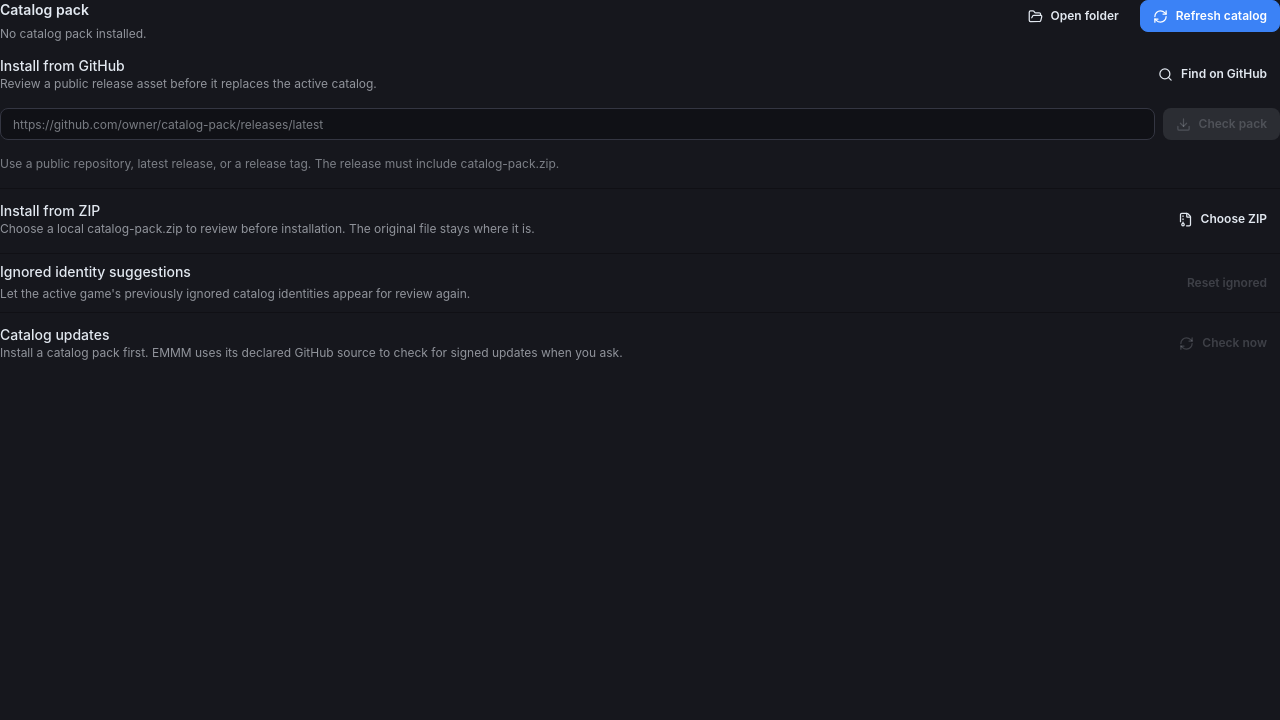
Test: CatalogTab › releases the reviewed staging token when settings unmounts
The width and height of the screenshot is (1280, 720).
Step 1. Click the button "Choose ZIP" → point(1222, 219), box [1165, 203, 1279, 235]
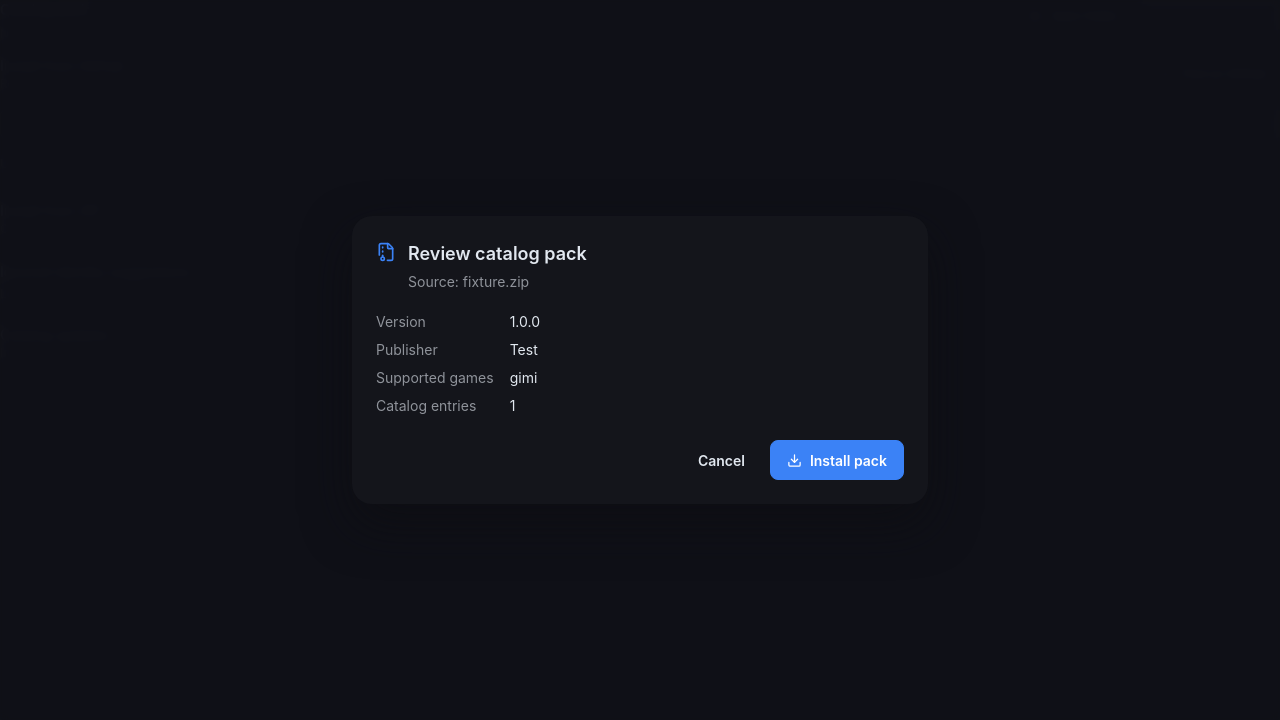
Check: the dialog is shown
